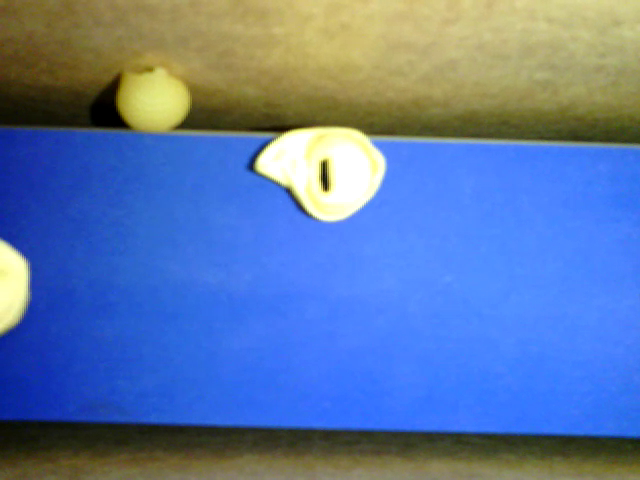shell: (115, 65, 191, 131)
tortellini: (251, 126, 386, 222)
